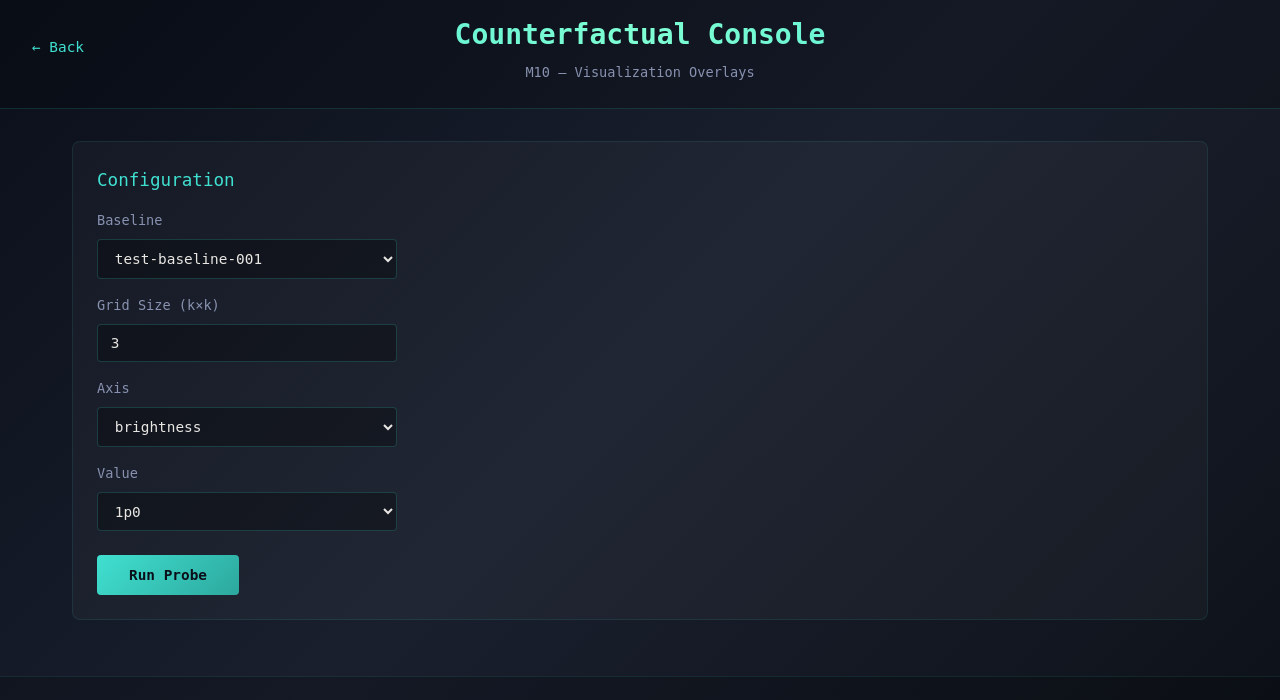
Test: CounterfactualConsole › displays delta table after running probe
Click the button "Run Probe" at (168, 575), box [97,555,239,595]
(page scrolled)
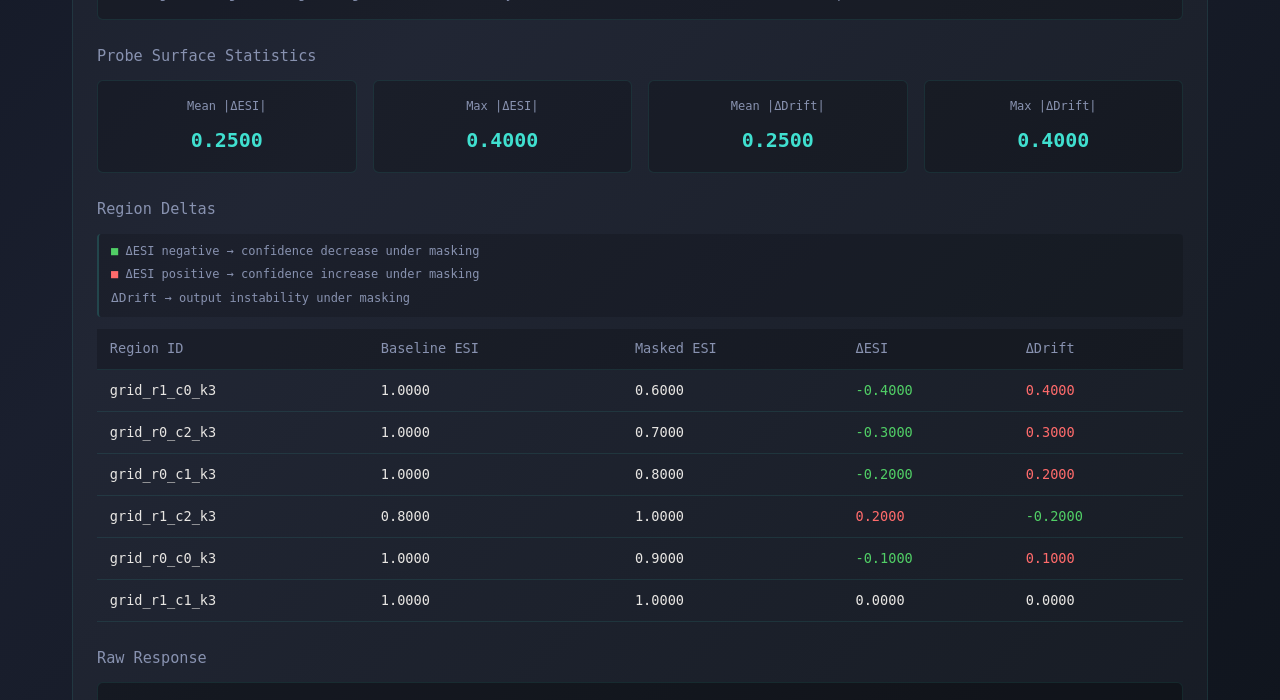
Now the heading "Region Deltas" is shown, box [97,200,216,218]
Now the column heading "Region ID" is shown, box [97,328,368,370]
Now the column heading "Baseline ESI" is shown, box [368,328,622,370]
